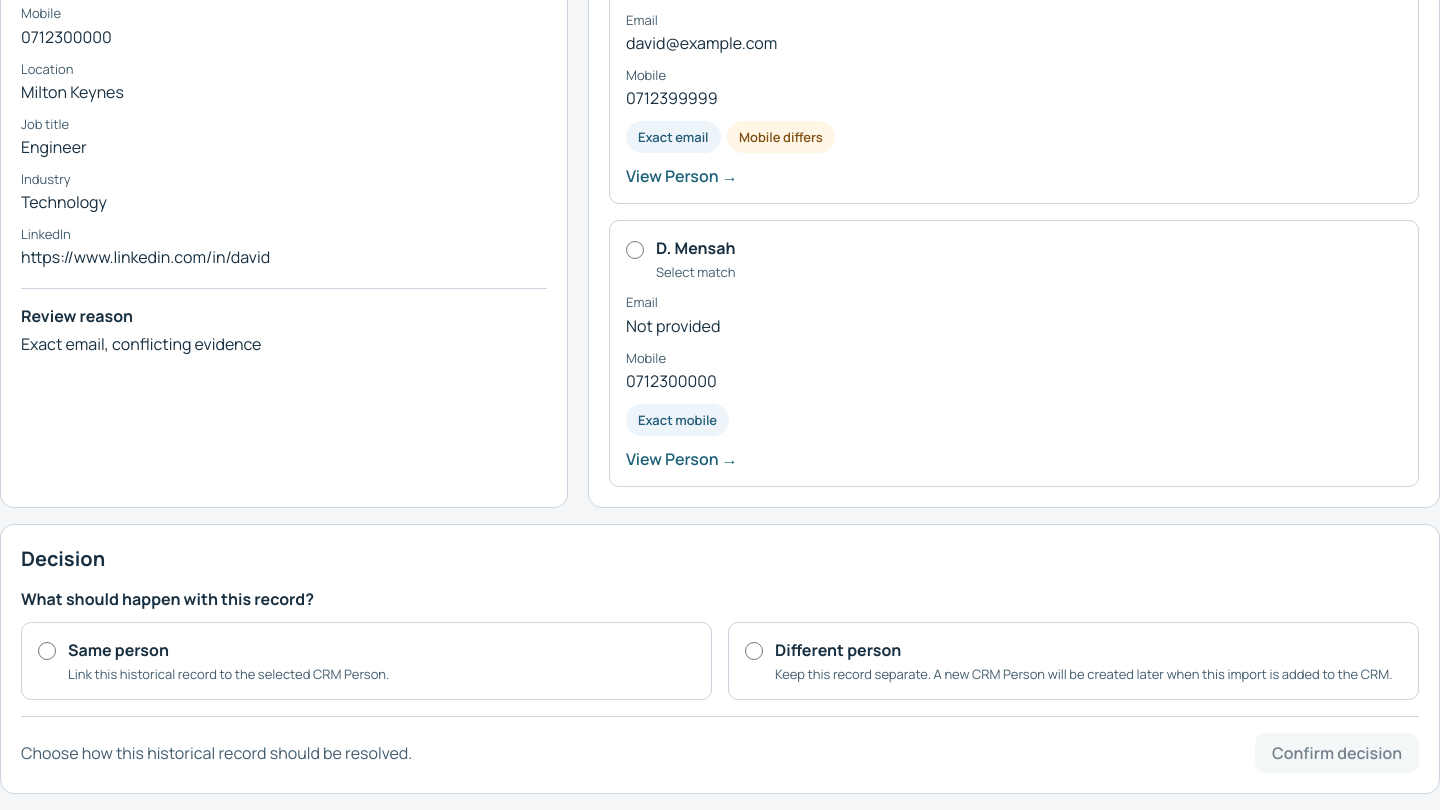
Scenario: ImportReviewPageComponent › displays a safe backend confirmation-required error
(page scrolled)
What coordinates should you click on to do the following:
click the radio button named "decision"
I would click on:
 (754, 651)
Its box is x1=745 y1=642 x2=763 y2=660.
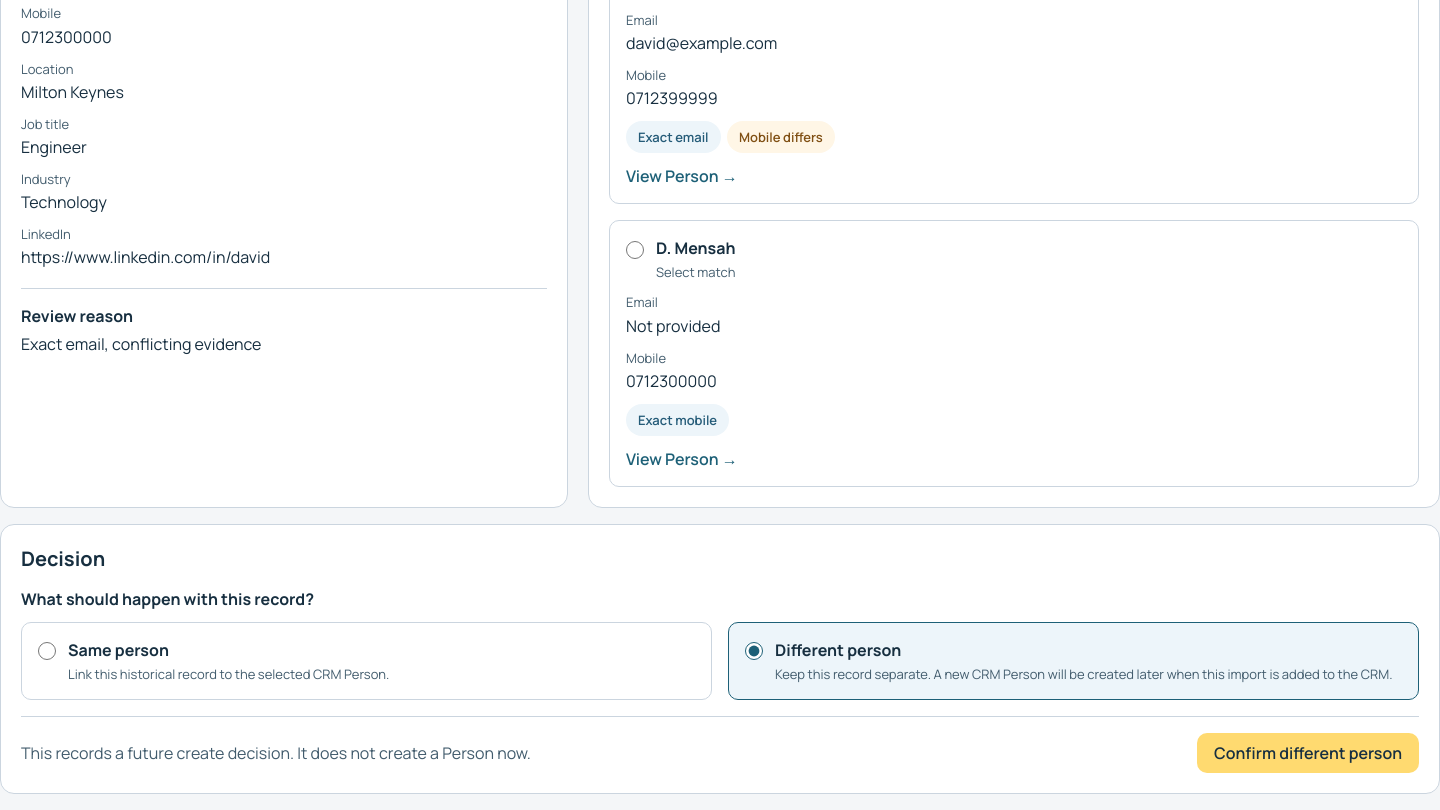
What coordinates should you click on to do the following:
click the button with class "confirm-decision"
I would click on:
 (1308, 753)
Its box is x1=1197 y1=733 x2=1419 y2=773.
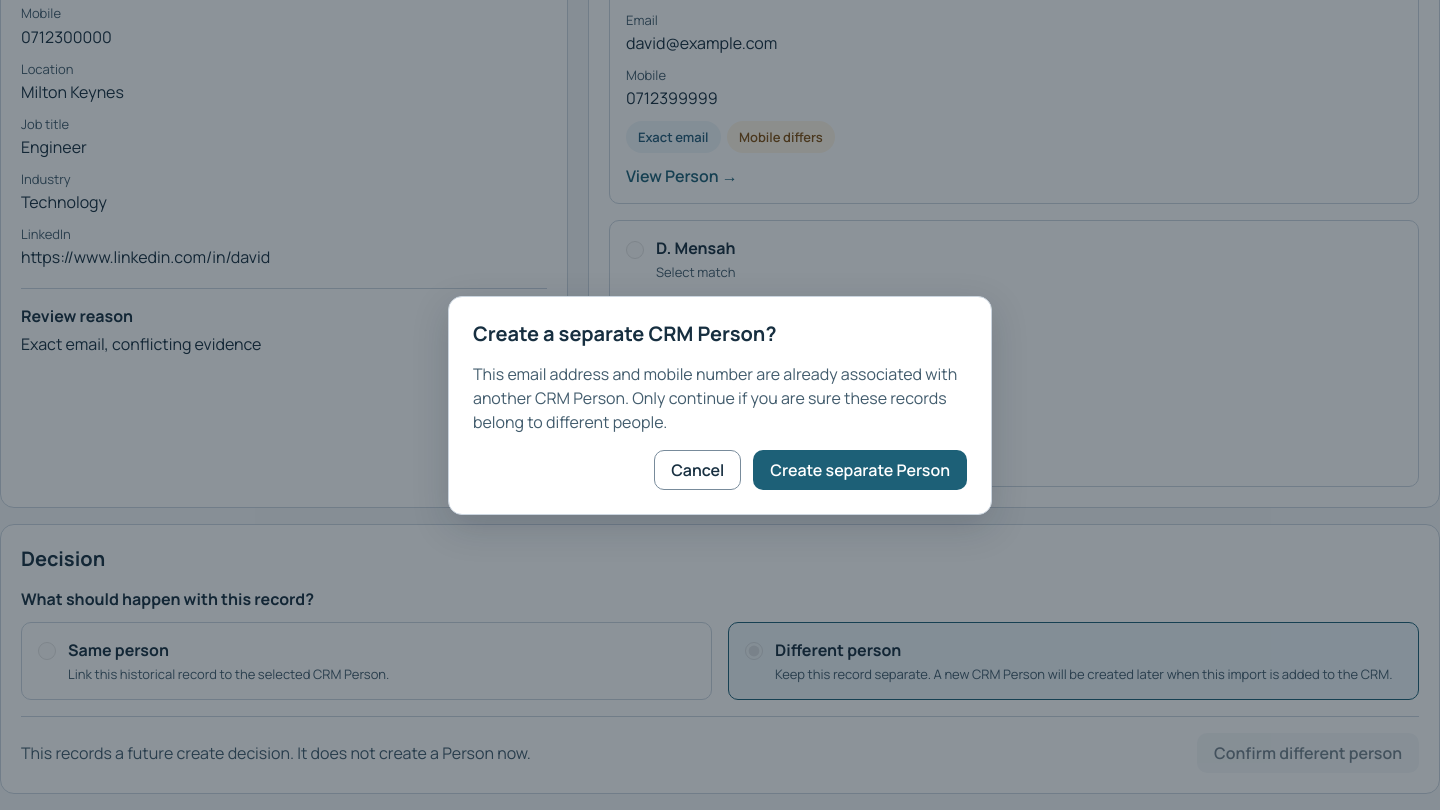
What coordinates should you click on to do the following:
click the button "Create separate Person"
I would click on:
 (860, 470)
Its box is x1=753 y1=450 x2=967 y2=490.
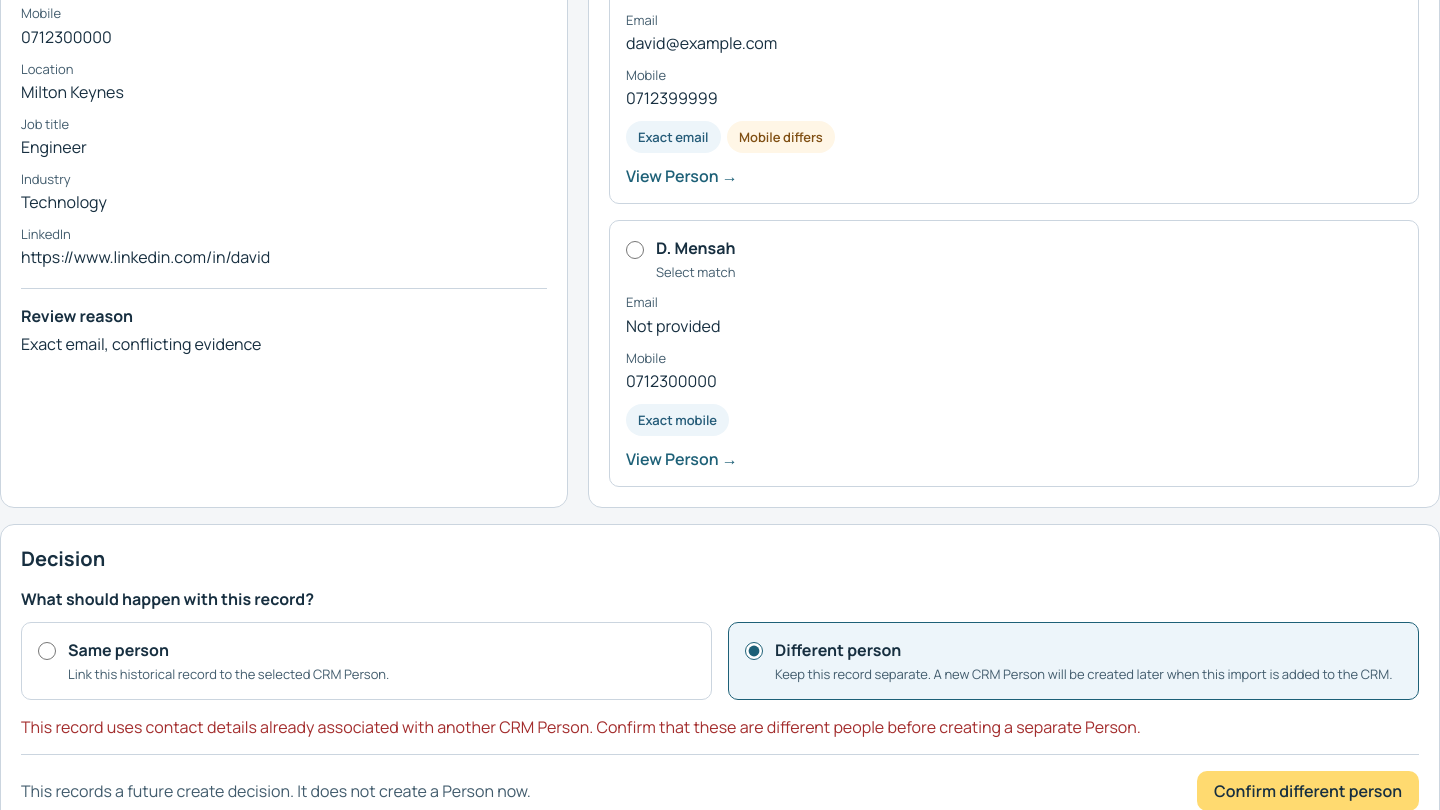
expect the text "Confirm that these are different people before creating a separate Person." is shown: met, box x1=21 y1=716 x2=1141 y2=738
